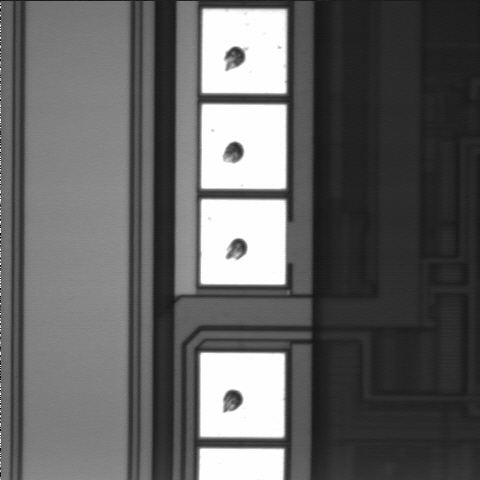pad: (201, 199, 286, 285), (201, 104, 286, 189), (200, 353, 285, 438), (202, 9, 286, 93)
